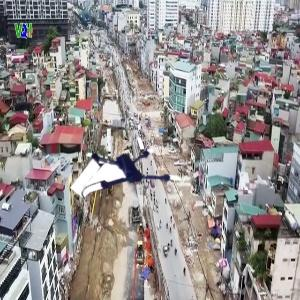drone: (84, 127, 181, 224)
